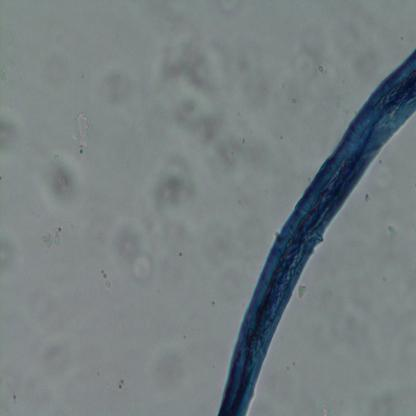Background material: (116, 153, 196, 278), (152, 42, 232, 137), (281, 5, 335, 86), (204, 124, 264, 182), (147, 332, 193, 400), (34, 151, 85, 209), (87, 60, 141, 112), (231, 58, 266, 110), (0, 110, 32, 162), (0, 224, 23, 280), (31, 222, 67, 251), (66, 111, 90, 152), (284, 86, 301, 111), (114, 373, 126, 391), (387, 222, 399, 237), (297, 284, 308, 300)
Cotton: (214, 50, 416, 414)
